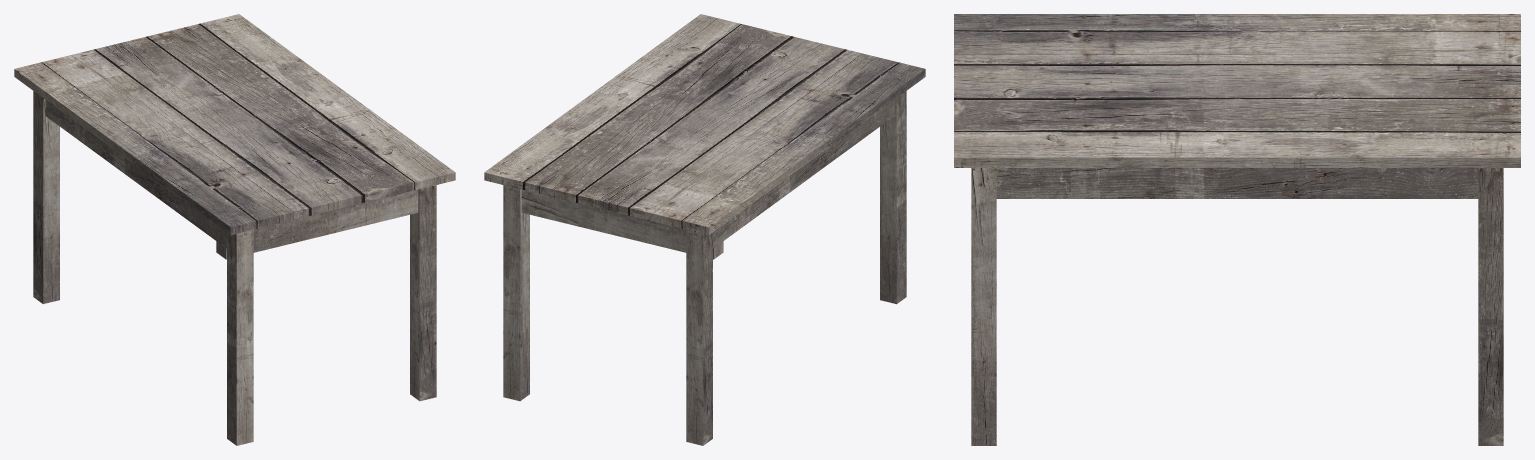
The model's file is tableBig.FBX.
The picture shows the model from 3 angles, left to right: view 1: azimuth 30°, elevation 25°; view 2: azimuth 150°, elevation 25°; view 3: azimuth 270°, elevation 25°; orthographic projection. The views are drawn at different scales.
Visible parts, largest first — view 1: tableSurface, tableLeg1, tableLeg2, tableLeg4; view 2: tableSurface, tableLeg4, tableLeg3, tableLeg1; view 3: tableSurface, tableLeg2, tableLeg3.
Part boxes in pixels (box(x1,y1,x2,y2)): tableSurface: box(14, 14, 455, 252); tableLeg1: box(227, 229, 253, 445); tableLeg2: box(410, 185, 436, 401); tableLeg4: box(33, 91, 59, 304); tableSurface: box(484, 14, 925, 252); tableLeg4: box(686, 229, 712, 445); tableLeg3: box(503, 185, 529, 401); tableLeg1: box(880, 91, 906, 304); tableSurface: box(954, 14, 1520, 198); tableLeg2: box(971, 168, 996, 445); tableLeg3: box(1478, 168, 1503, 445).
Size of the model in its own units: 0.75 by 0.7213 by 1.25.
1 material, 1 textured.
